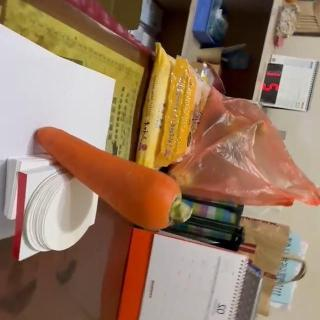carrot: (33, 126, 195, 230)
